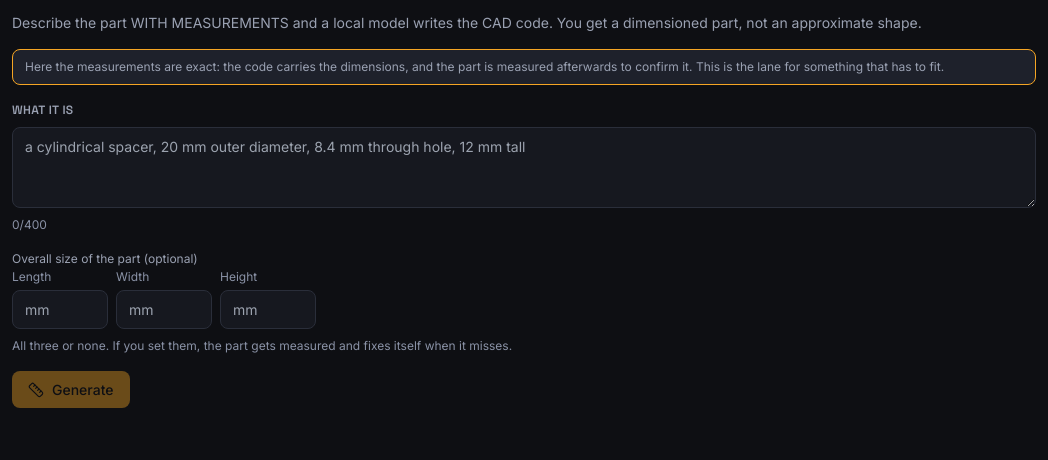
Scenario: lo que muestra el resultado › un fallo del modelo se lee, no desaparece
The image size is (1048, 460).
Replace the text in the text box labelled "What it is 0/400" with "un espaciador de 20 mm" at (524, 168), box [12,127,1036,208]
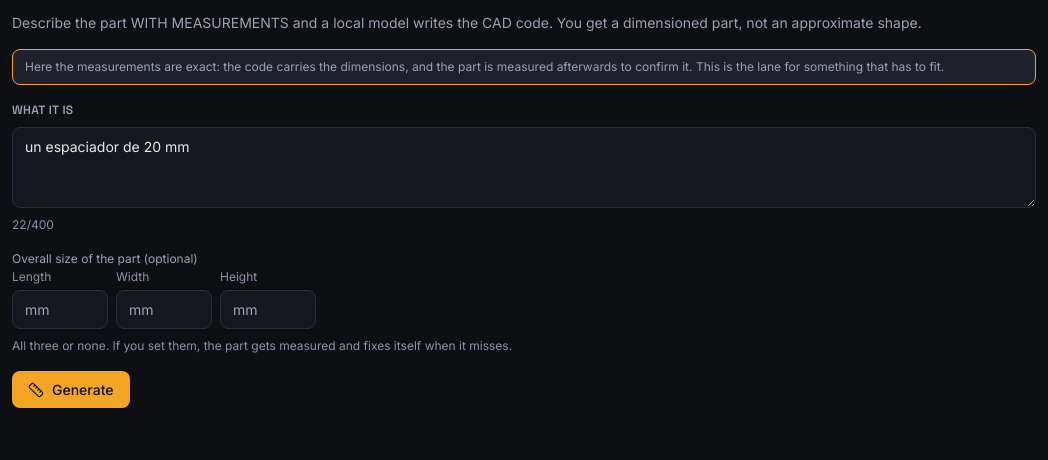
Click the button "Generate" at (71, 390), box [12,371,130,408]
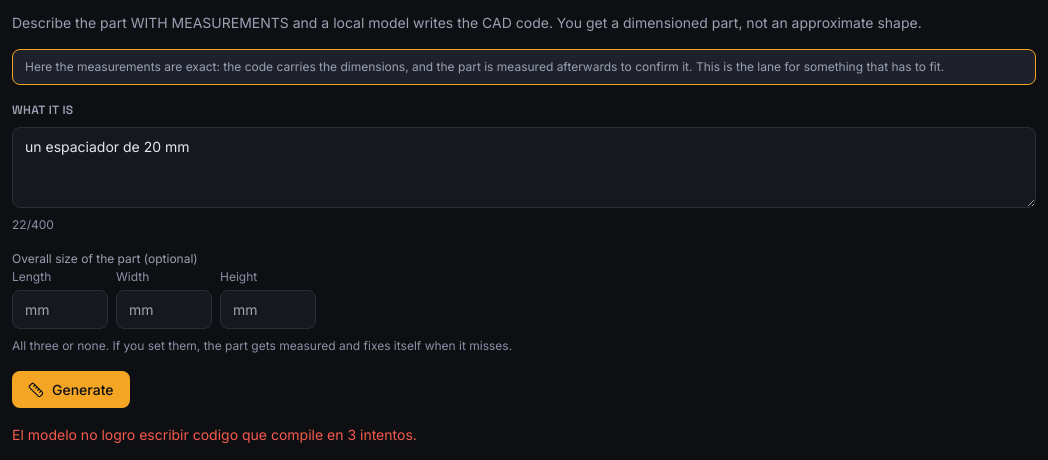
Check: the message shows "3 intentos", box [12,426,417,443]
